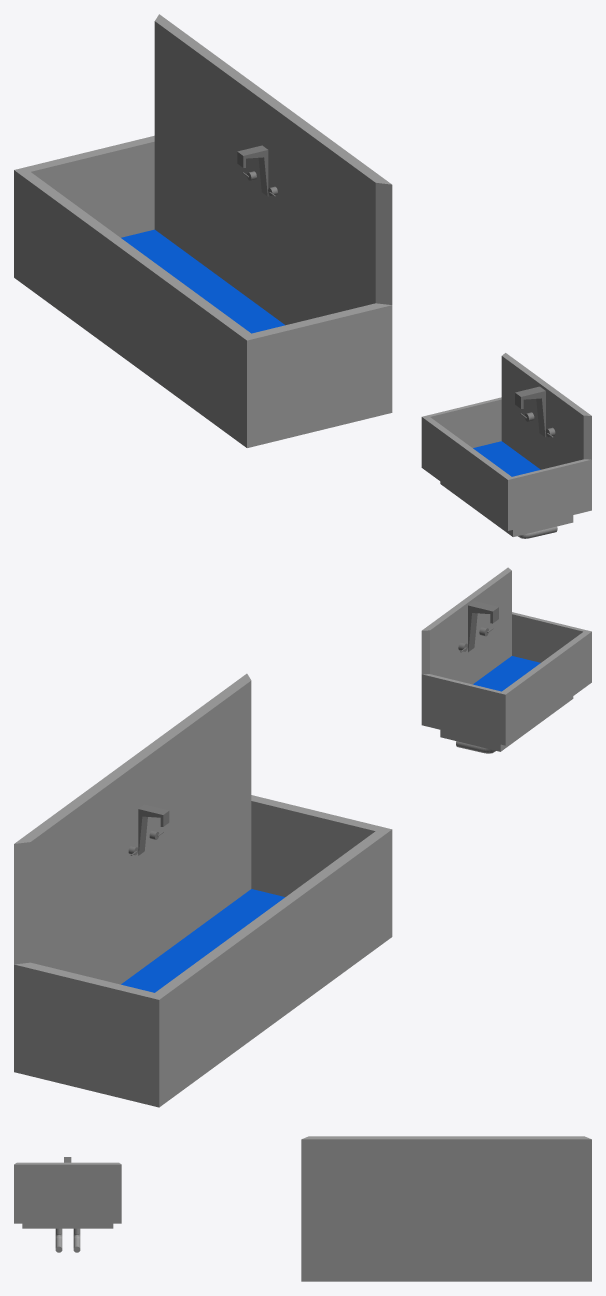
Rendered from BathSink.fbx.
3 renders of one model, top to bottom at view 1: azimuth 30°, elevation 25°; view 2: azimuth 150°, elevation 25°; view 3: azimuth 270°, elevation 25°, orthographic. The views are drawn at different scales.
Parts seen in each view (by area): view 1: LaundrySink, BathroomSink; view 2: LaundrySink, BathroomSink; view 3: LaundrySink, BathroomSink.
Boxes of the visible parts, x1=… form: LaundrySink: x1=14, y1=14, x2=392, y2=447; BathroomSink: x1=421, y1=353, x2=591, y2=538; LaundrySink: x1=14, y1=673, x2=392, y2=1107; BathroomSink: x1=421, y1=567, x2=591, y2=753; LaundrySink: x1=301, y1=1136, x2=591, y2=1281; BathroomSink: x1=14, y1=1157, x2=121, y2=1252.
Size of the model in its own units: 328 by 493 by 1815.
